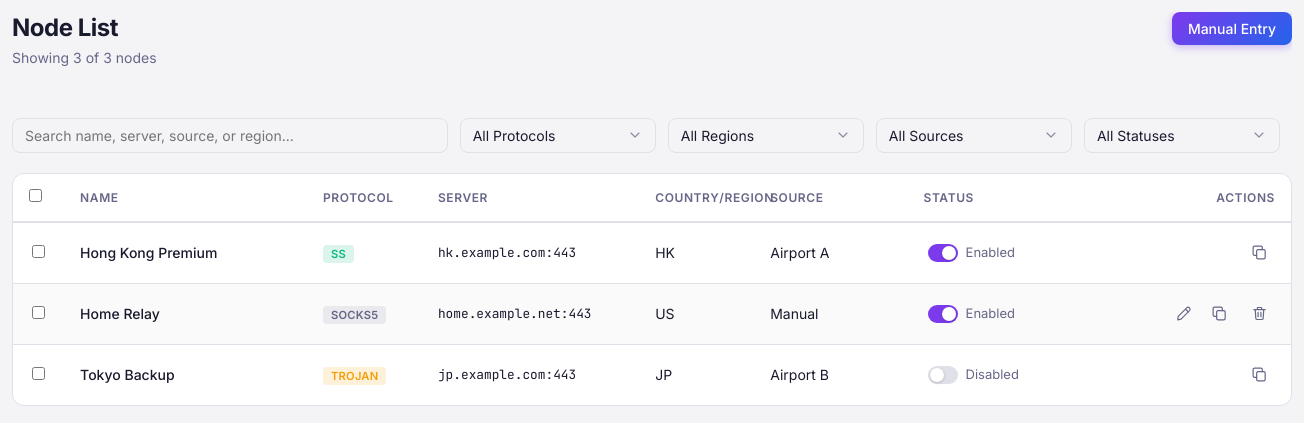
Test: Nodes filters › copies the standard share URI for subscription and manual nodes
Step 1. Click the button named "Copy node URI for Hong Kong Premium" → x=1259, y=253, box [1243,237,1275,269]
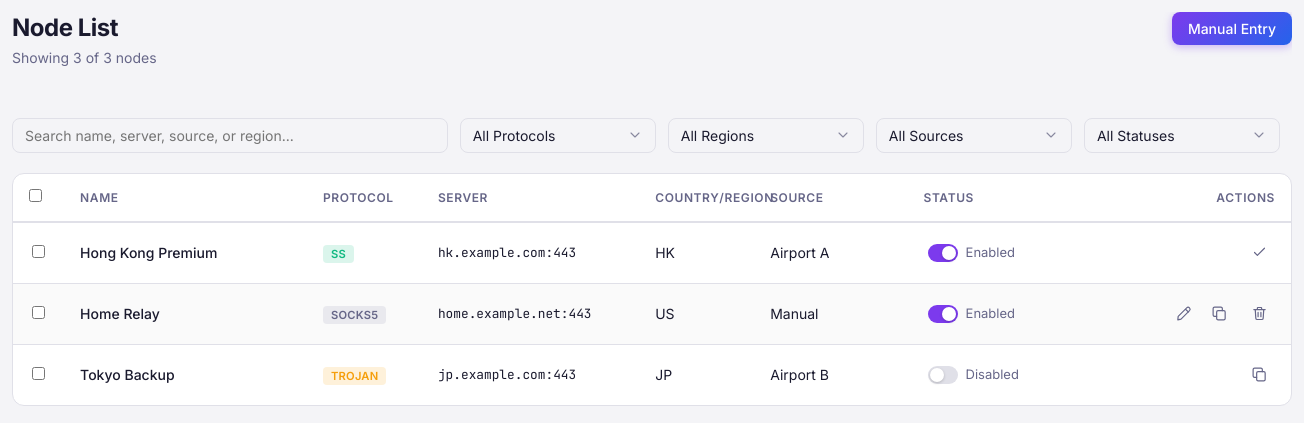
Expected: the button named "Copy node URI for Home Relay" is shown, [1203,298,1235,330]
Expected: the button named "Node URI copied for Hong Kong Premium" is shown, [1243,237,1275,269]
